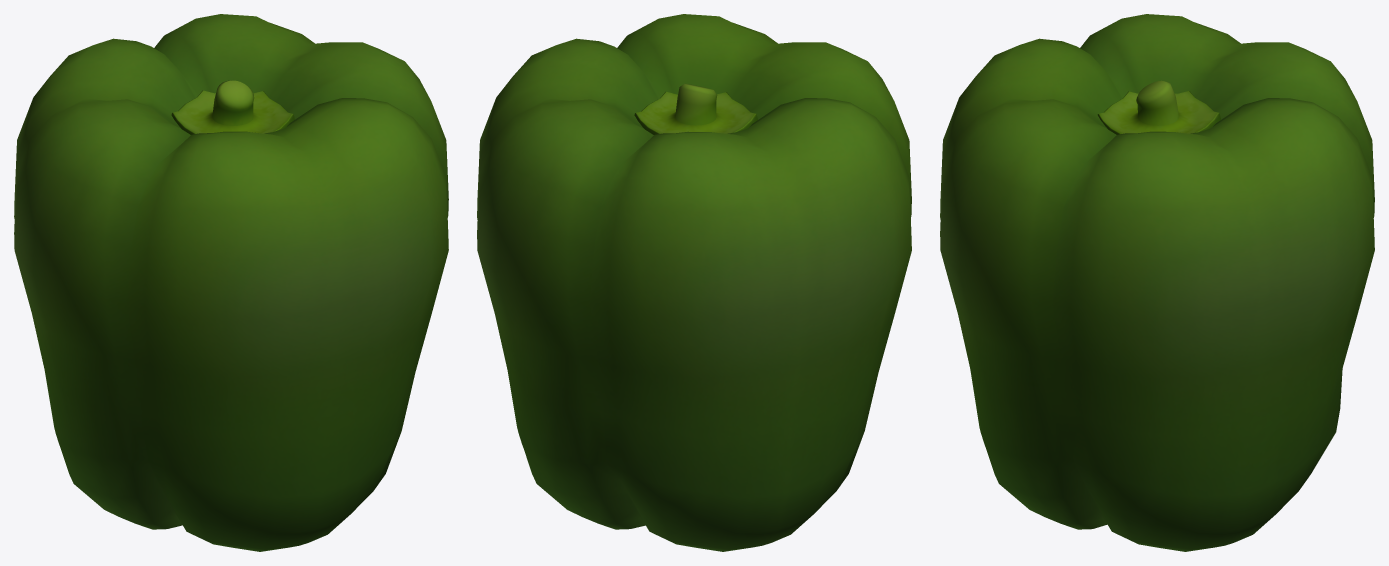
Rendered from StackUp_BellPepper.fbx.
The picture shows the model from 3 angles, left to right: view 1: azimuth 30°, elevation 25°; view 2: azimuth 150°, elevation 25°; view 3: azimuth 270°, elevation 25°; orthographic projection.
Visible parts, largest first — view 1: StackUp_BellPepper; view 2: StackUp_BellPepper; view 3: StackUp_BellPepper.
Boxes of the visible parts, x1,y1,x2,y2 form: StackUp_BellPepper: (14, 14, 448, 551); StackUp_BellPepper: (477, 14, 911, 551); StackUp_BellPepper: (940, 14, 1374, 551).
Size of the model in its own units: 13.67 by 13.92 by 12.89.
